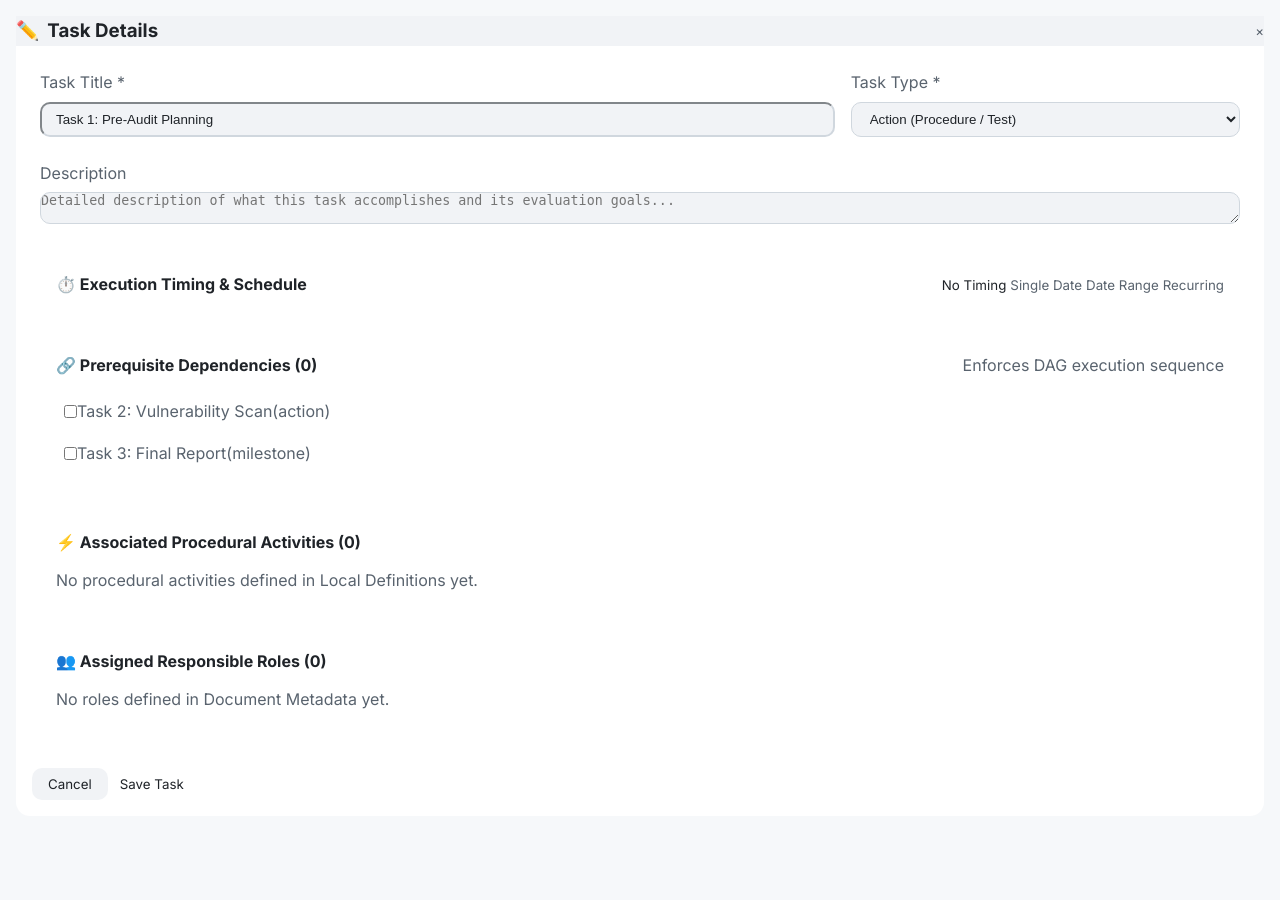
Test: Assessment Plan Modals Suite › TaskEditorModal › detects and prevents circular dependencies in Task DAG
The image size is (1280, 900).
# Try checking Task 3
Step 1. Click the checkbox labelled "Task 3: Final Report (milestone)" → coordinates (70, 453), box x1=64 y1=447 x2=77 y2=460
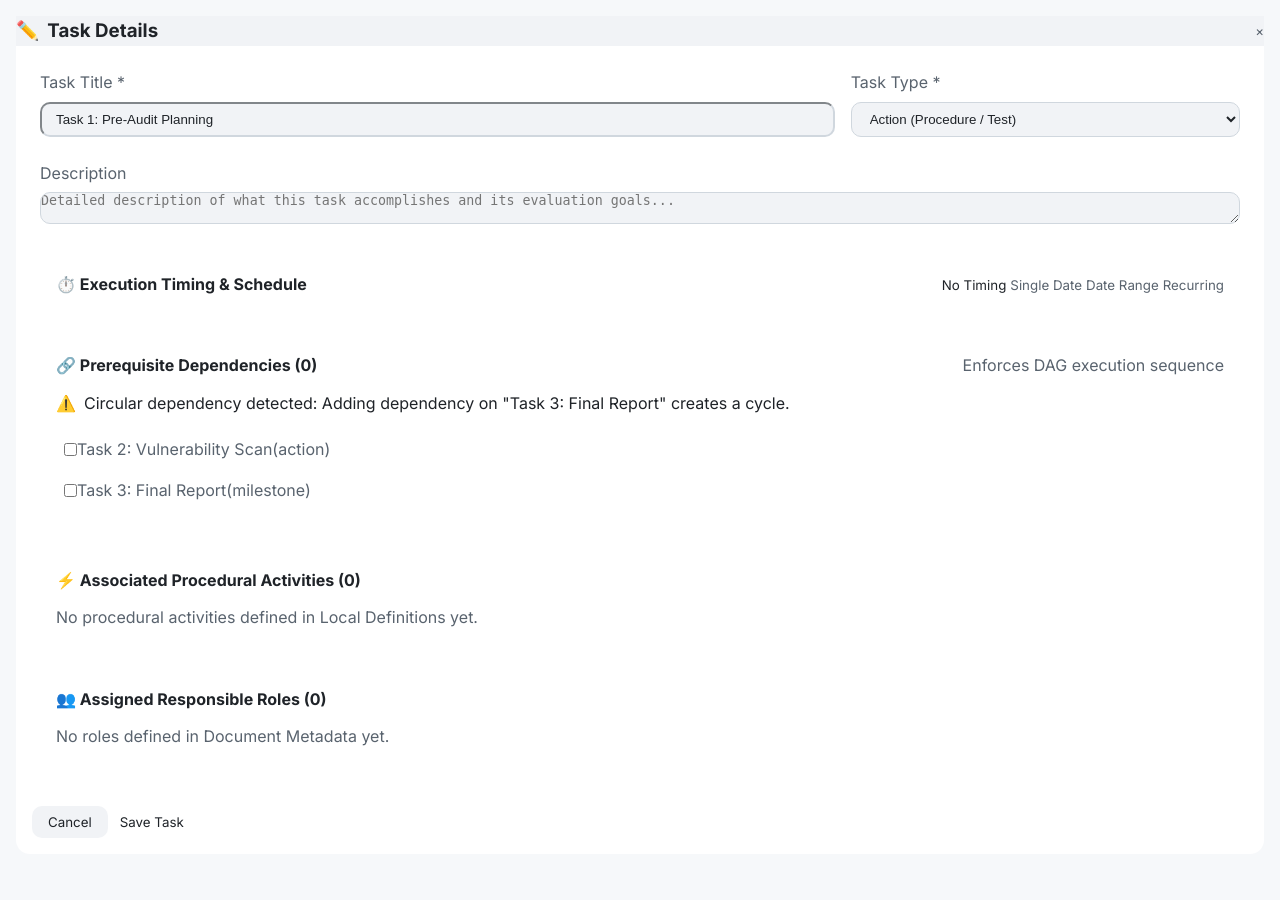
expect the text "Circular dependency detected" is shown: met, box x1=84 y1=393 x2=790 y2=413
